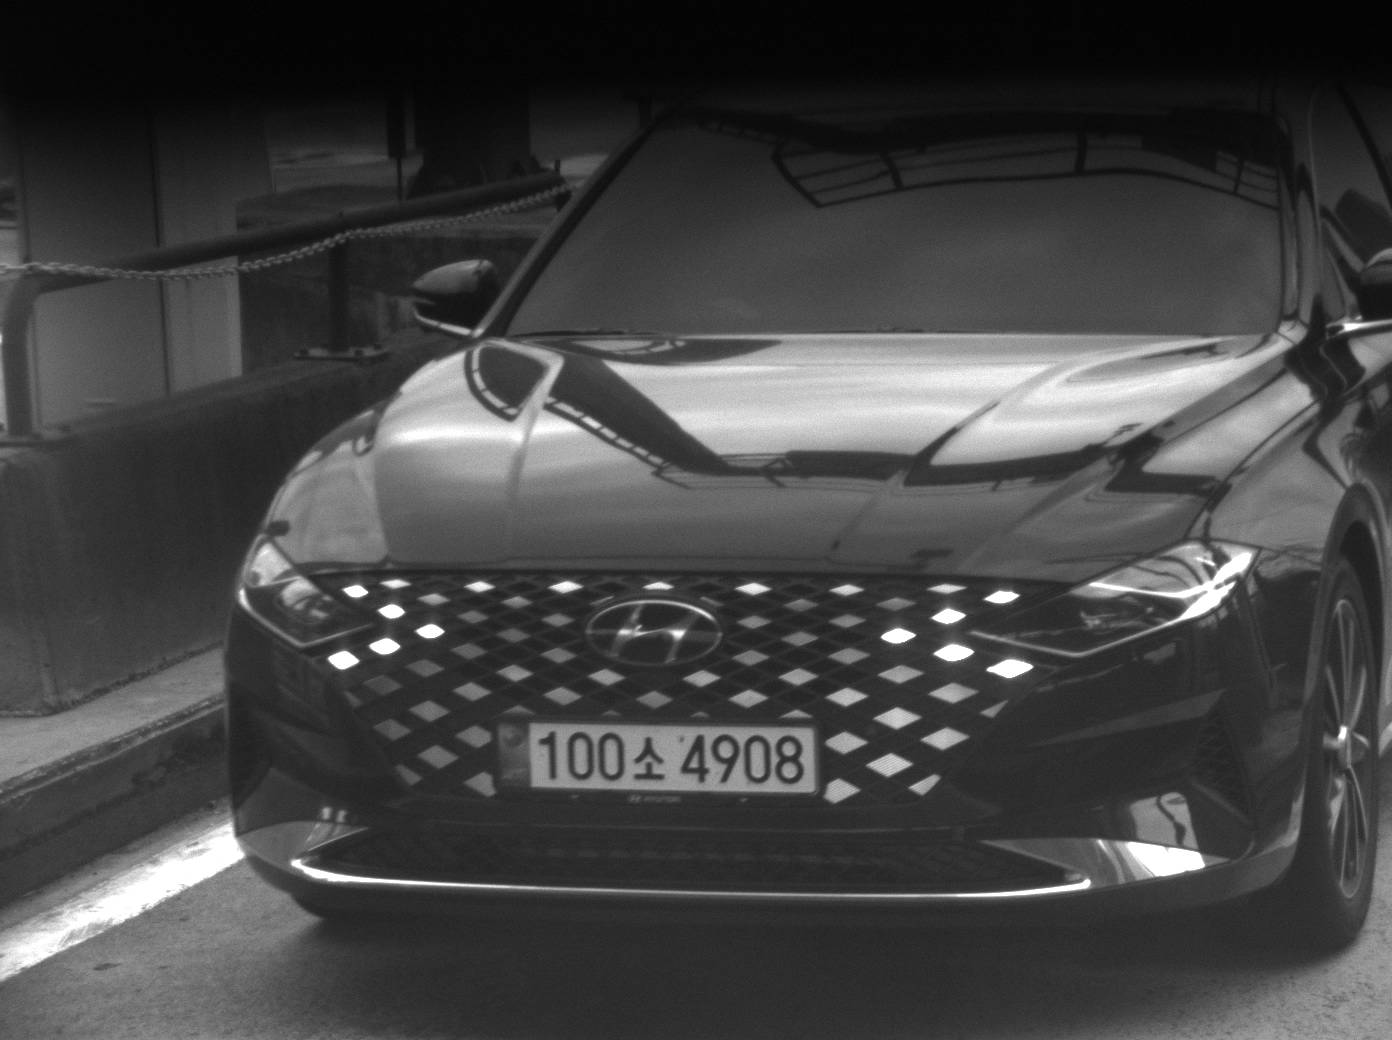car: (223, 120, 1392, 959)
plate: (490, 717, 822, 795)
